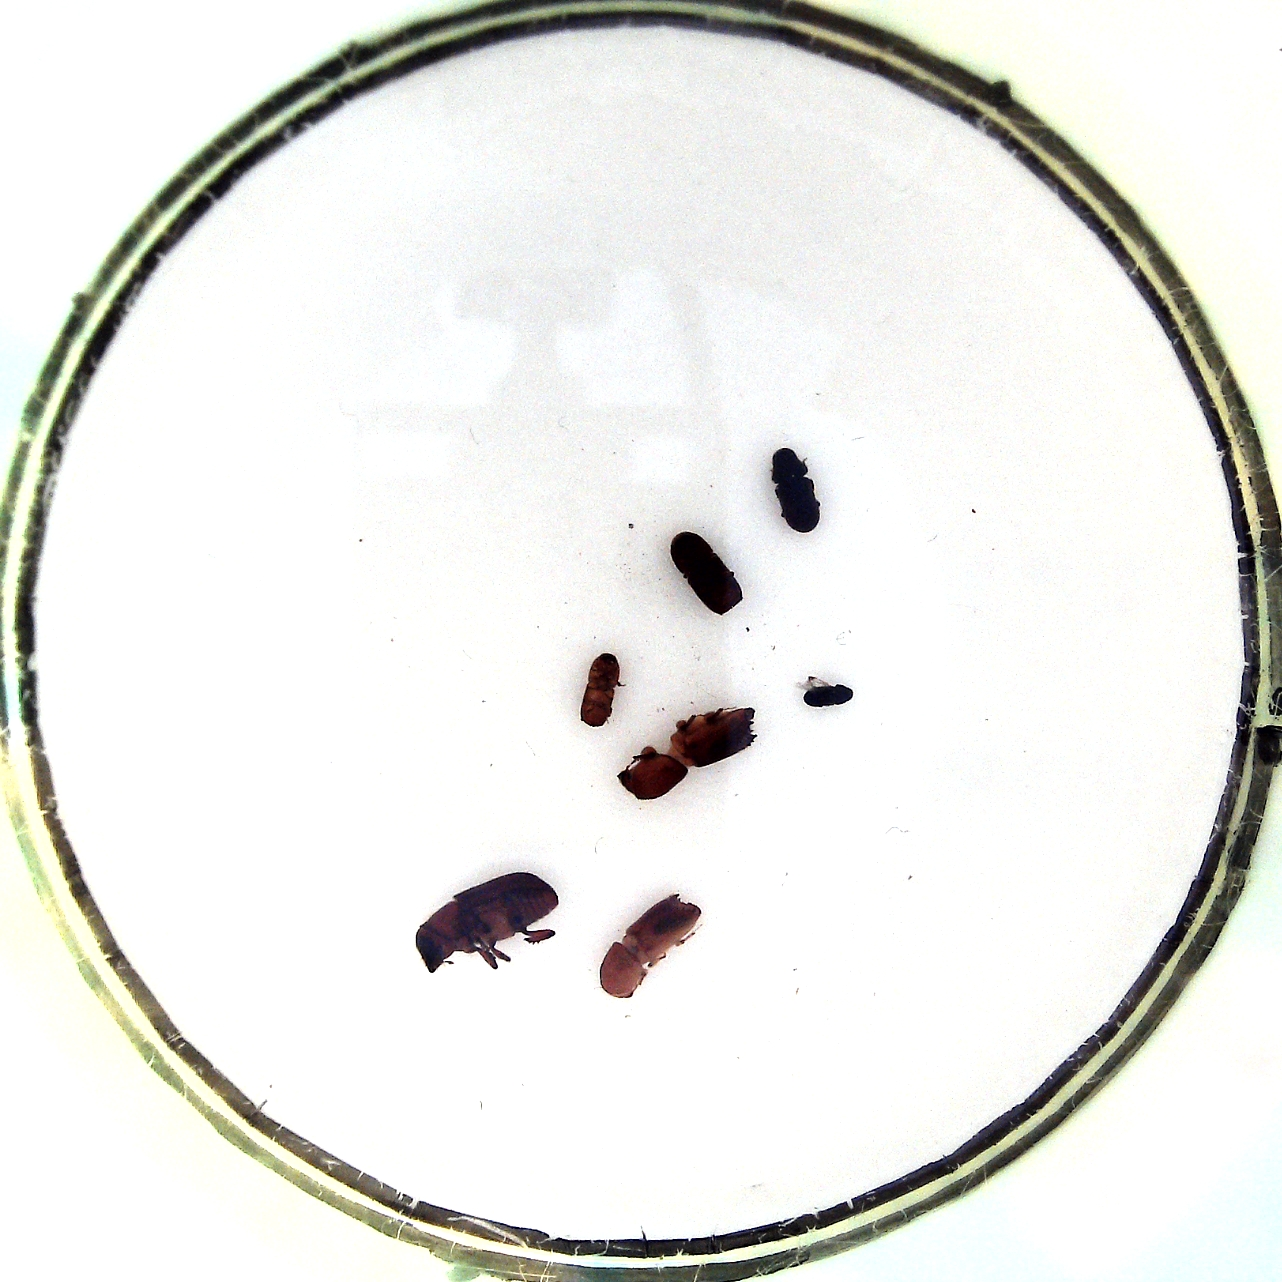Boerner: (616, 704, 762, 802), (593, 892, 708, 1004)
Leconte: (410, 869, 562, 976)
Linnaeus: (664, 525, 744, 618)
acuminatus: (575, 650, 625, 728)
armandi: (770, 443, 823, 537)
coleoptera: (798, 673, 857, 710)
